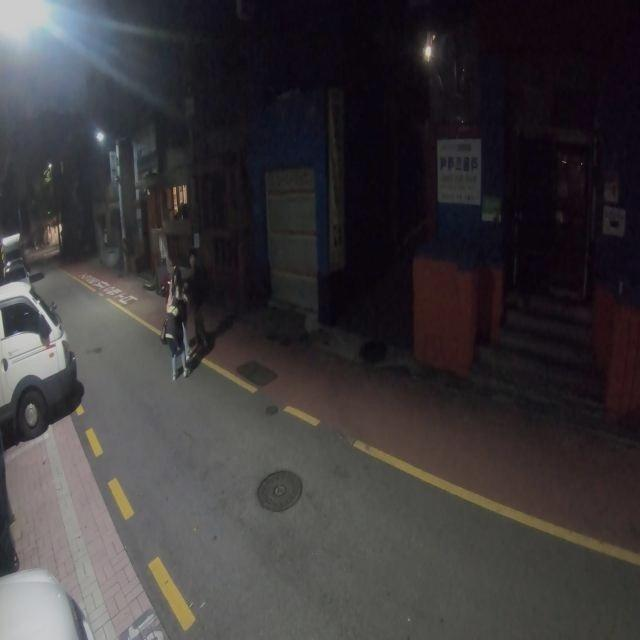fight: (162, 261, 196, 382)
non-fight: (187, 247, 216, 362)
